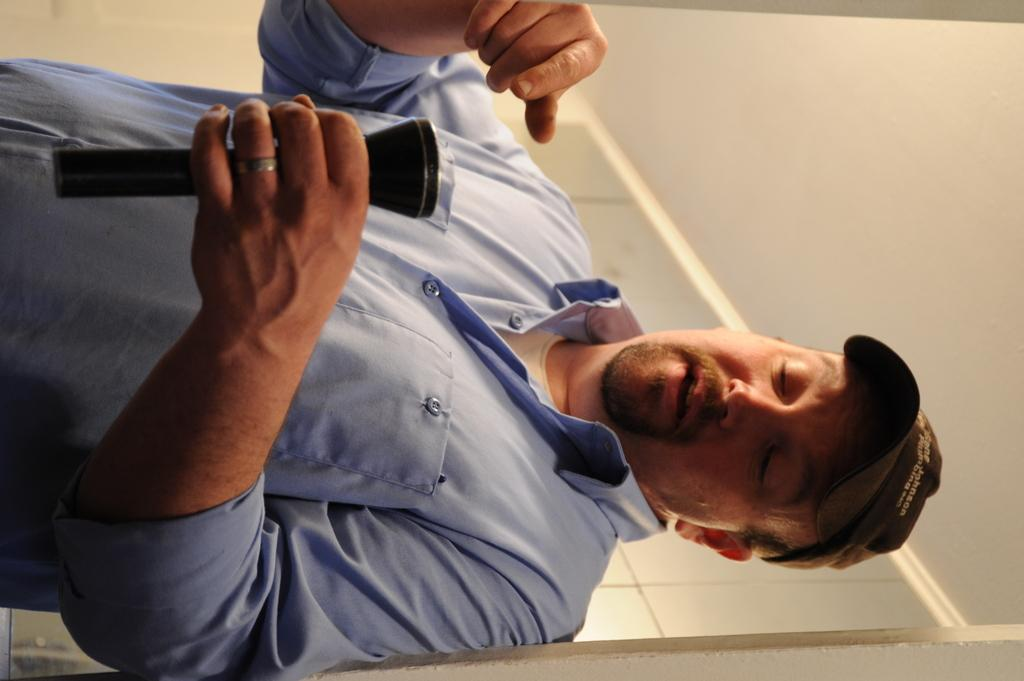Sem Máscara: (603, 337, 857, 517)
